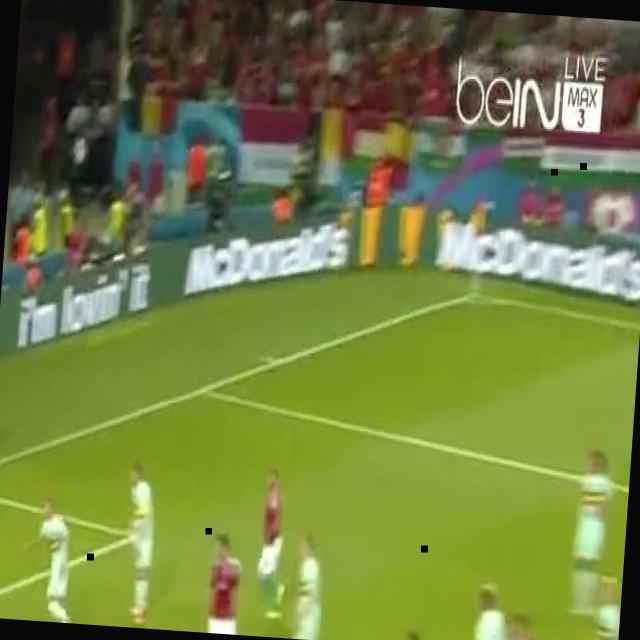player-white: (19, 495, 85, 624), (118, 457, 162, 629), (568, 452, 612, 616), (254, 466, 294, 620), (288, 533, 330, 640), (205, 533, 244, 635), (577, 573, 623, 640), (470, 580, 510, 640), (496, 612, 544, 640), (395, 625, 437, 640)
